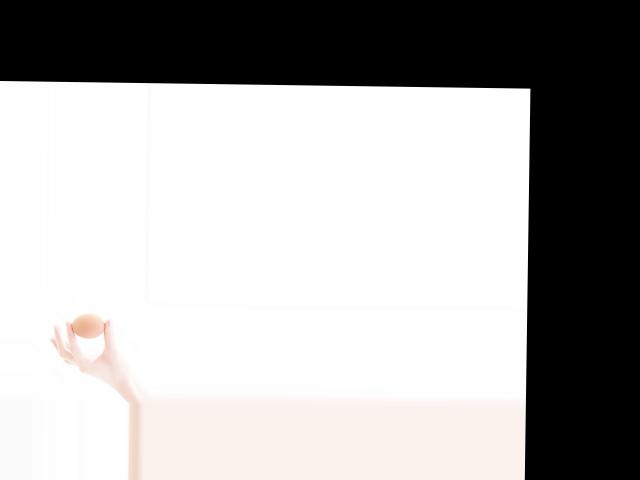egg: (71, 312, 105, 338)
